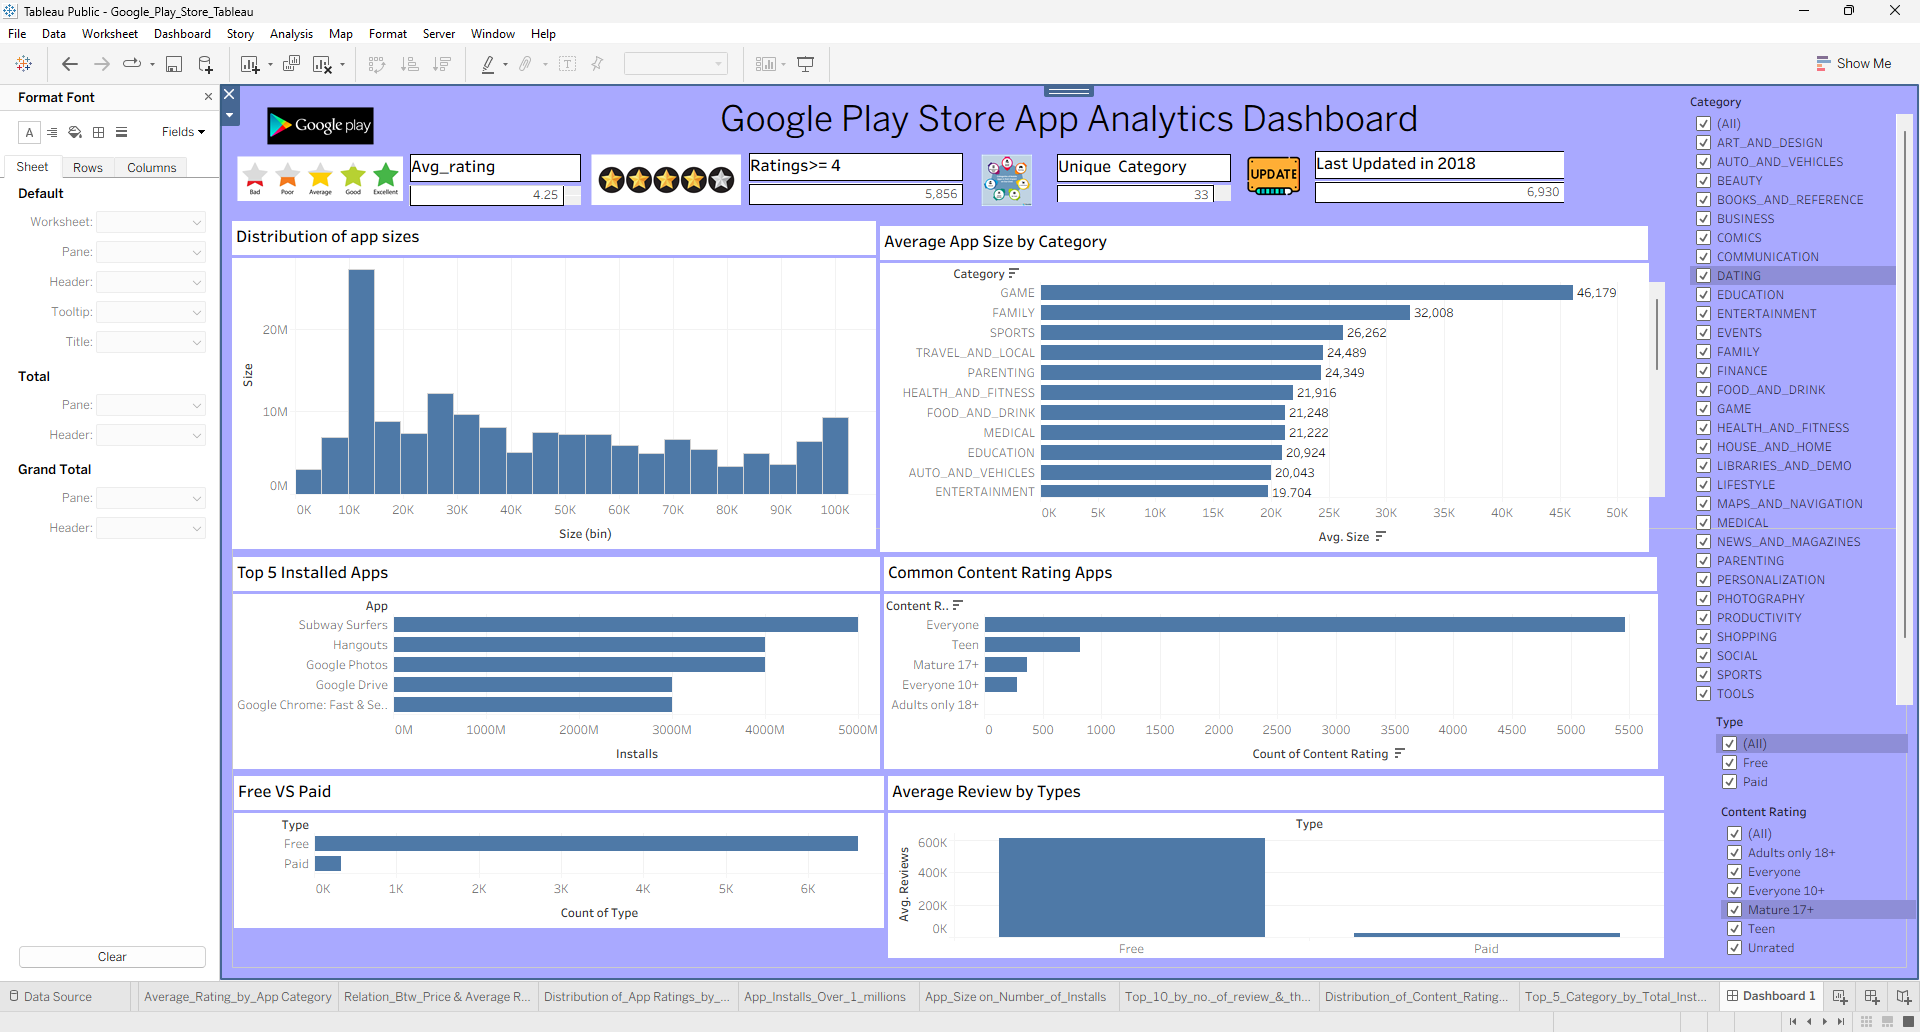

This screenshot's page, from the dashboard's own definition file:
{"tool":"tableau","page":{"name":"Dashboard 1","canvas":[1000,1000],"units":"permille","ordinal":0},"visuals":[{"type":"title","box":[4.7,8.9,847.3,58]},{"type":"filter","title":"Average_App_by_Category","param":"[federated.1939f800vxhslr1bvqydi06hdnke].[none:Category:nk]","box":[866.6,20.1,131.1,683]},{"type":"image","param":"C:/Users/sanju/OneDrive/Desktop/Jobaaj_projects/POWER_BI/Google Play Store_Data/","box":[4.7,67,847.3,93.4]},{"type":"image","param":"C:/Users/sanju/OneDrive/Desktop/Jobaaj_projects/POWER_BI/Google Play Store_Data/","box":[10,72.5,97.7,67]},{"type":"image","param":"C:/Users/sanju/OneDrive/Desktop/Jobaaj_projects/POWER_BI/Google Play Store_Data/","box":[569.9,72.5,100.6,59.1]},{"type":"worksheet","title":"Last_Updated in_2018","mark":"Automatic","box":[644.2,74.8,146.9,60.3]},{"type":"worksheet","title":"Ratings>=4","mark":"Automatic","box":[311.3,77,125.8,61.4]},{"type":"worksheet","title":"Average_Ratings","mark":"Automatic","box":[111.2,78.1,101.2,58]},{"type":"image","param":"C:/Users/sanju/OneDrive/Desktop/Jobaaj_projects/POWER_BI/Google Play Store_Data/","box":[216.5,78.1,103,61.4]},{"type":"image","param":"C:/Users/sanju/OneDrive/Desktop/Jobaaj_projects/POWER_BI/Google Play Store_Data/","box":[427.2,78.1,71.4,58]},{"type":"worksheet","title":"Unique_Category","mark":"Automatic","box":[492.7,78.1,102.4,53.6]},{"type":"worksheet","title":"Distribution_Size_of_Apps","mark":"Automatic","rows":["Size"],"cols":["Size (bin)"],"box":[7,152.9,379.2,366.1]},{"type":"worksheet","title":"Average_App_by_Category","mark":"Automatic","rows":["Category"],"cols":["Size"],"box":[388.5,158.5,462.3,363.8]},{"type":"image","param":"C:/Users/sanju/OneDrive/Desktop/Jobaaj_projects/POWER_BI/Google Play Store_Data/","box":[4.7,160.4,847.3,330.8]},{"type":"image","box":[4.7,491.1,847.3,500]},{"type":"worksheet","title":"Top_5_Installed_Apps","mark":"Automatic","rows":["App"],"cols":["Installs"],"box":[7.6,527.9,380.9,260]},{"type":"worksheet","title":"Common_Content_Rating","mark":"Automatic","rows":["Content Rating"],"cols":["Content Rating"],"box":[390.9,527.9,458.2,236.6]},{"type":"filter","title":"Free_vs_Paid","param":"[federated.1939f800vxhslr1bvqydi06hdnke].[none:Type:nk]","box":[880.6,702,112.9,90.4]},{"type":"worksheet","title":"Free_vs_Paid","mark":"Automatic","rows":["Type"],"cols":["Type"],"box":[7,771.2,382.7,215.4]},{"type":"worksheet","title":"Average_Review_by_Types","mark":"Automatic","rows":["Reviews"],"cols":["Type"],"box":[393.2,772.3,457,203.1]},{"type":"filter","title":"Common_Content_Rating","param":"[federated.1939f800vxhslr1bvqydi06hdnke].[none:Content Rating:nk]","box":[883.6,802.5,114.7,175.2]}]}

Visuals, with their boxes on the dashboard's canvas, which has no fixed pixel size, in thousandths of its width and height (x1, y1, x2, y2). These are canvas units, not pixel positions in the 1920x1032 screenshot, which may show the page scaled, cropped or inside an application window:
title: region(5, 9, 852, 67)
"Average_App_by_Category" filter: region(867, 20, 998, 703)
image: region(5, 67, 852, 160)
image: region(10, 72, 108, 140)
image: region(570, 72, 670, 132)
"Last_Updated in_2018" worksheet: region(644, 75, 791, 135)
"Ratings>=4" worksheet: region(311, 77, 437, 138)
"Average_Ratings" worksheet: region(111, 78, 212, 136)
image: region(216, 78, 320, 140)
image: region(427, 78, 499, 136)
"Unique_Category" worksheet: region(493, 78, 595, 132)
"Distribution_Size_of_Apps" worksheet: region(7, 153, 386, 519)
"Average_App_by_Category" worksheet: region(388, 158, 851, 522)
image: region(5, 160, 852, 491)
image: region(5, 491, 852, 991)
"Top_5_Installed_Apps" worksheet: region(8, 528, 388, 788)
"Common_Content_Rating" worksheet: region(391, 528, 849, 764)
"Free_vs_Paid" filter: region(881, 702, 994, 792)
"Free_vs_Paid" worksheet: region(7, 771, 390, 987)
"Average_Review_by_Types" worksheet: region(393, 772, 850, 975)
"Common_Content_Rating" filter: region(884, 802, 998, 978)
